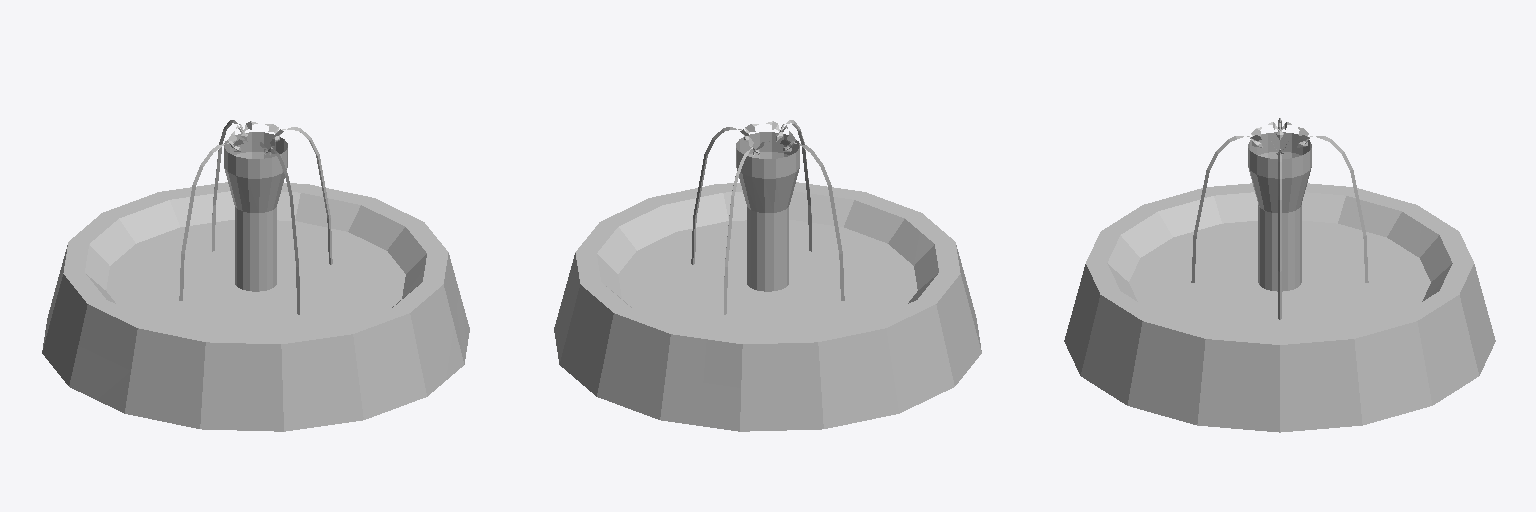
Rendered from dragonfountain.obj.
The picture shows the model from 3 angles: view 1: azimuth 30°, elevation 25°; view 2: azimuth 150°, elevation 25°; view 3: azimuth 270°, elevation 25°; orthographic projection.
Parts seen in each view (by area): view 1: object0; view 2: object0; view 3: object0.
Boxes of the visible parts, x1=… form: object0: x1=42, y1=120, x2=469, y2=431; object0: x1=554, y1=120, x2=981, y2=431; object0: x1=1064, y1=118, x2=1495, y2=432.
Size of the model in its own units: 5.12 by 3.26 by 5.12.